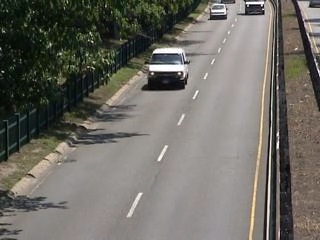car: (209, 4, 230, 20)
truck: (144, 46, 193, 88), (243, 1, 268, 17)
